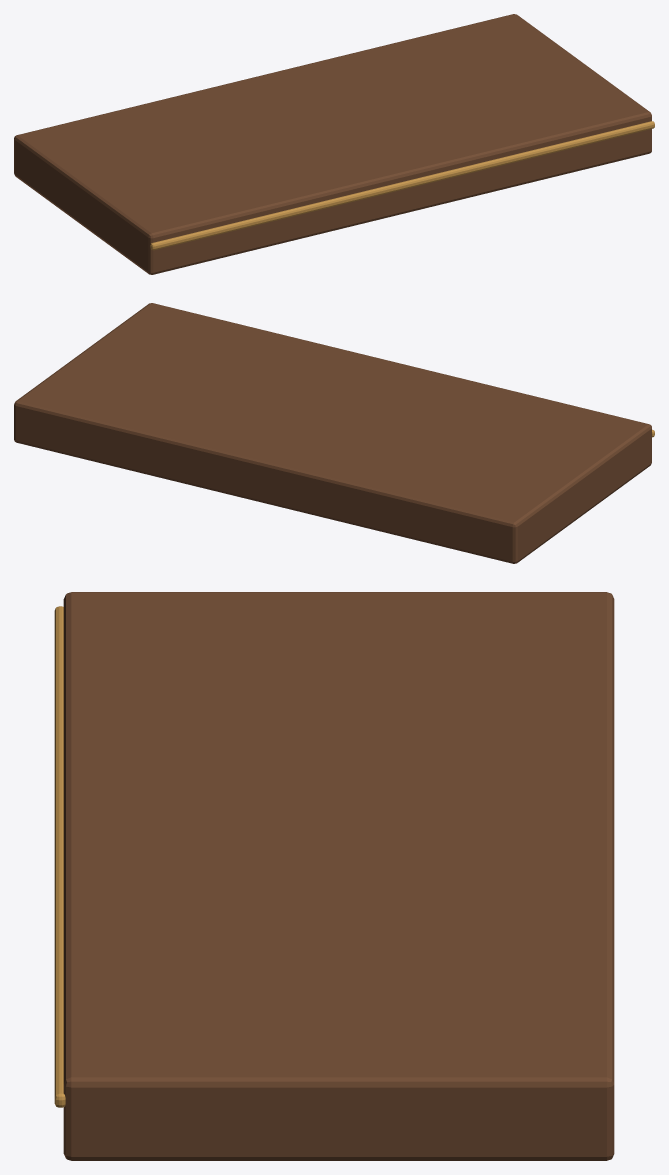
Rendered from stage_platform.glb.
The picture shows the model from 3 angles, top to bottom: view 1: azimuth 30°, elevation 25°; view 2: azimuth 150°, elevation 25°; view 3: azimuth 270°, elevation 25°; orthographic projection. The views are drawn at different scales.
Visible parts, largest first — view 1: stage_platform; view 2: stage_platform; view 3: stage_platform.
Boxes of the visible parts, x1,y1,x2,y2 form: stage_platform: [14, 14, 654, 274]; stage_platform: [14, 303, 654, 563]; stage_platform: [54, 592, 614, 1160].
Bounding box in the file's own units: 3.8 × 0.3 × 1.83.
